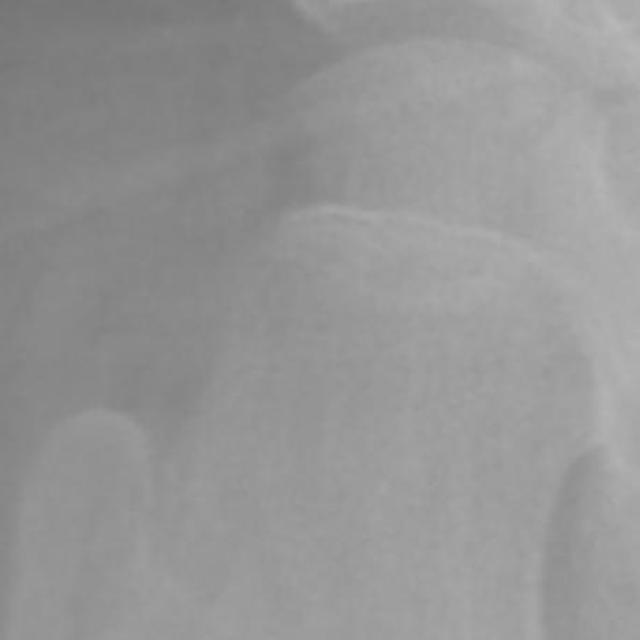Fitted_femural_head: (432, 41, 467, 467)
